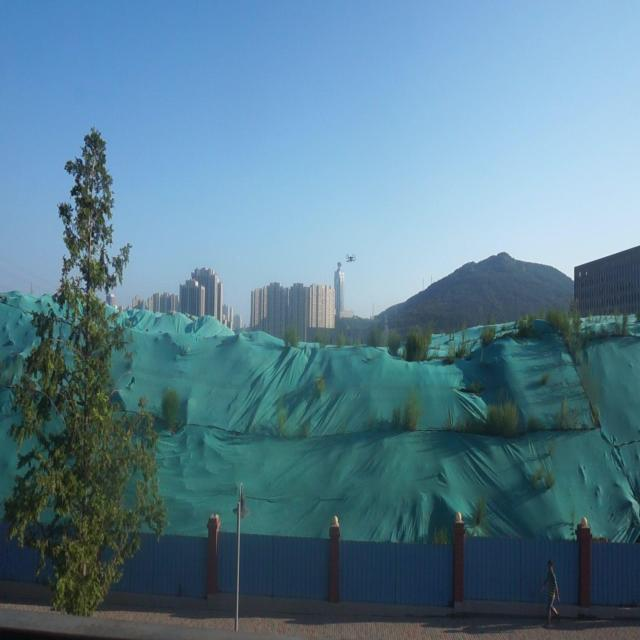drone: (343, 249, 357, 266)
